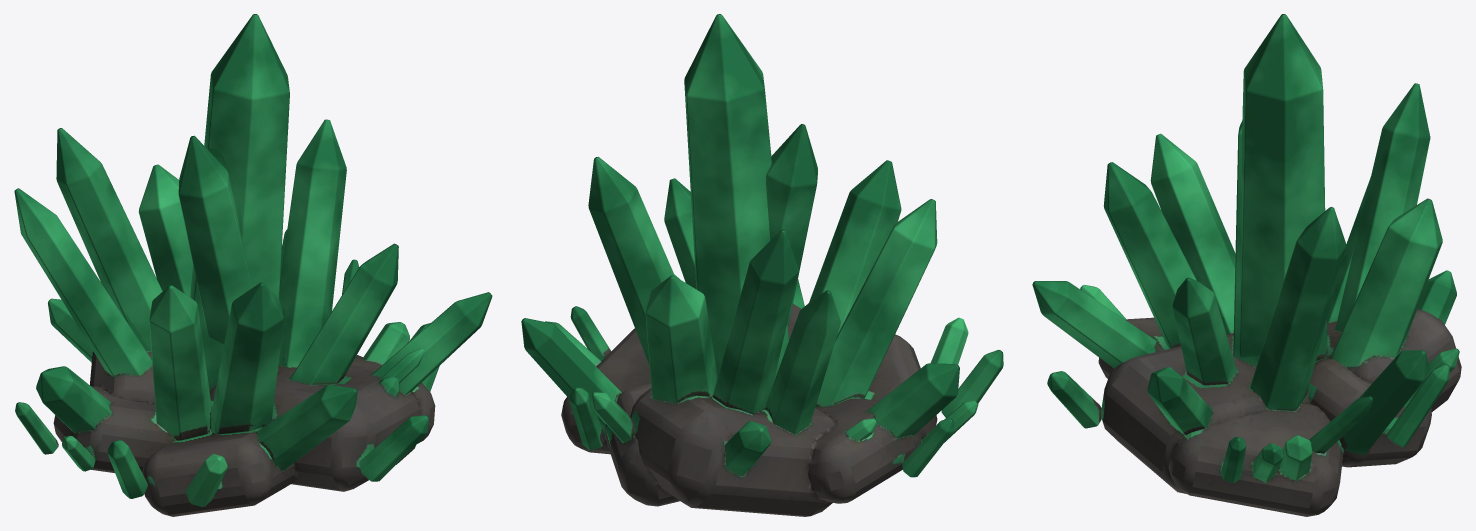
File: hs_crystal_singing_vein_lod0.glb
3 renders of one model, left to right at view 1: azimuth 30°, elevation 25°; view 2: azimuth 150°, elevation 25°; view 3: azimuth 270°, elevation 25°, orthographic. The views are drawn at different scales.
Size of the model in its own units: 2.38 by 2.49 by 2.14.
Materials: 1 (1 with a texture image).
